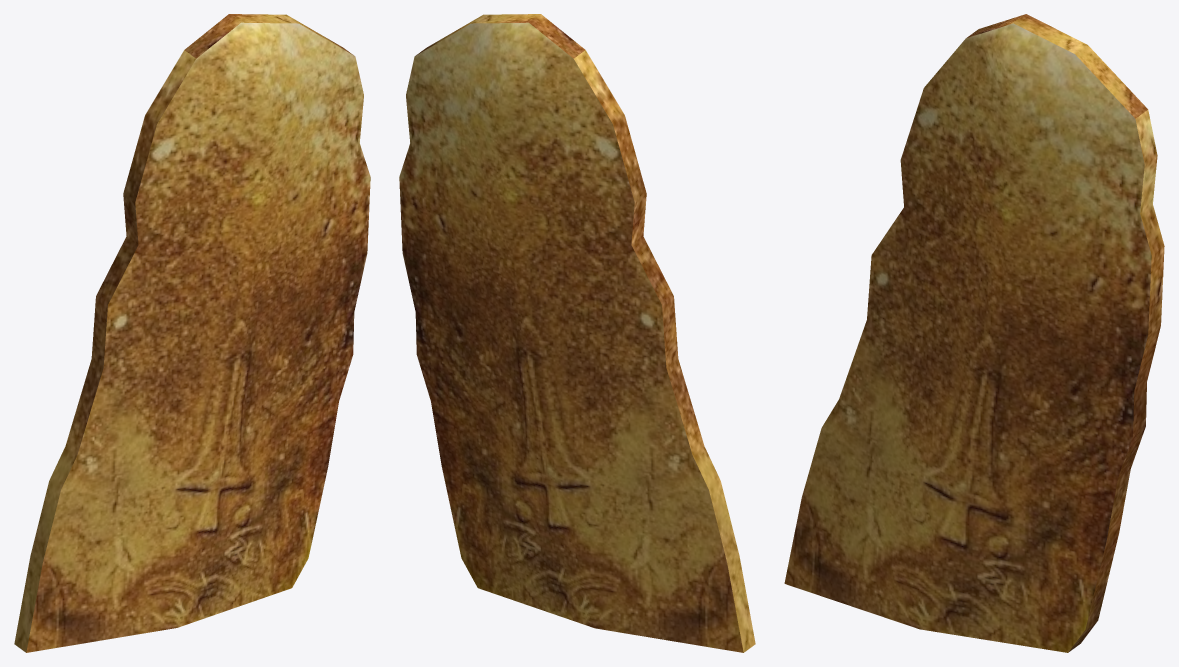
The model's file is Rock3.FBX.
The picture shows the model from 3 angles, left to right: view 1: azimuth 30°, elevation 25°; view 2: azimuth 150°, elevation 25°; view 3: azimuth 330°, elevation 25°; orthographic projection. The views are drawn at different scales.
Visible parts, largest first — view 1: 3Rock; view 2: 3Rock; view 3: 3Rock.
Part boxes in pixels (<box>): 3Rock: <box>14,14,370,652</box>; 3Rock: <box>399,14,755,652</box>; 3Rock: <box>784,14,1164,652</box>.
Size of the model in its own units: 5.52 by 8.84 by 1.
